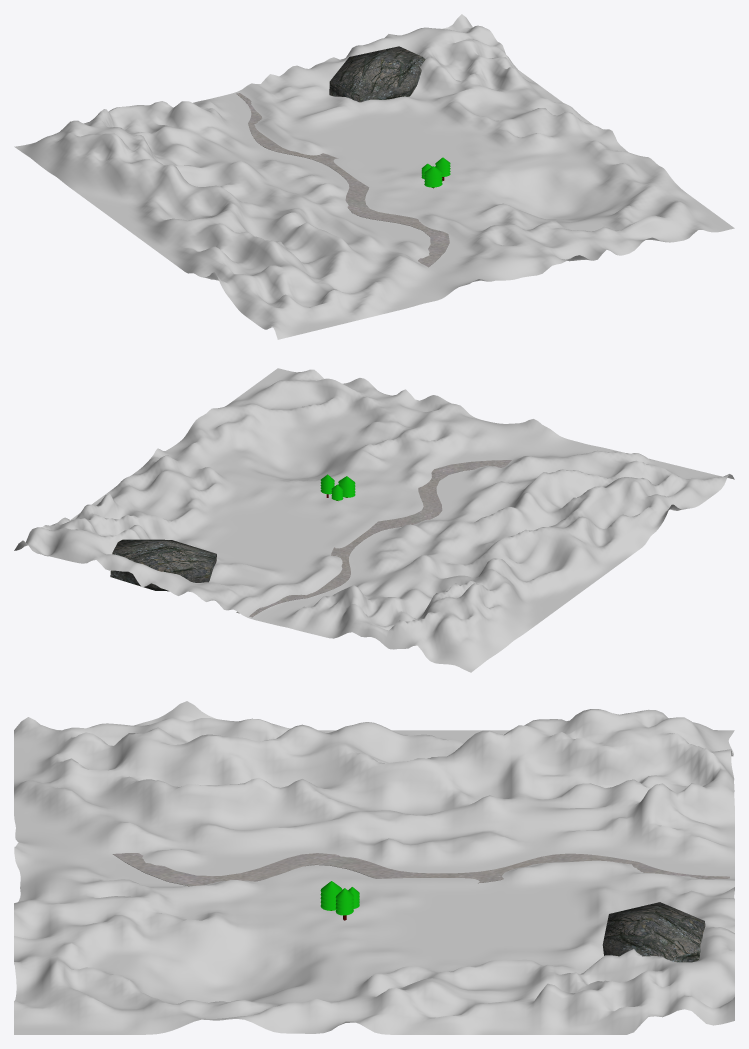
The model's file is Zombie environmet Fbx.FBX.
3 views of the same model, one above another, from view 1: azimuth 30°, elevation 25°; view 2: azimuth 150°, elevation 25°; view 3: azimuth 270°, elevation 25° (orthographic). The views are drawn at different scales.
Visible parts, largest first — view 1: LAND, Boulders and Stones011, Road, Trees027; view 2: LAND, Boulders and Stones011, Road, Trees027; view 3: LAND, Road, Boulders and Stones011, Trees027.
Boxes of the visible parts, box(x1,y1,x2,y2) form: LAND: box(14, 14, 734, 339); Boulders and Stones011: box(329, 46, 425, 102); Road: box(236, 93, 449, 267); Trees027: box(421, 157, 450, 188); LAND: box(14, 368, 734, 672); Boulders and Stones011: box(110, 539, 216, 591); Road: box(236, 460, 511, 617); Trees027: box(320, 474, 355, 500); LAND: box(14, 701, 734, 1034); Road: box(113, 853, 729, 886); Boulders and Stones011: box(602, 902, 705, 962); Trees027: box(320, 881, 359, 920).
Size of the model in its own units: 4684 by 592 by 4684.
